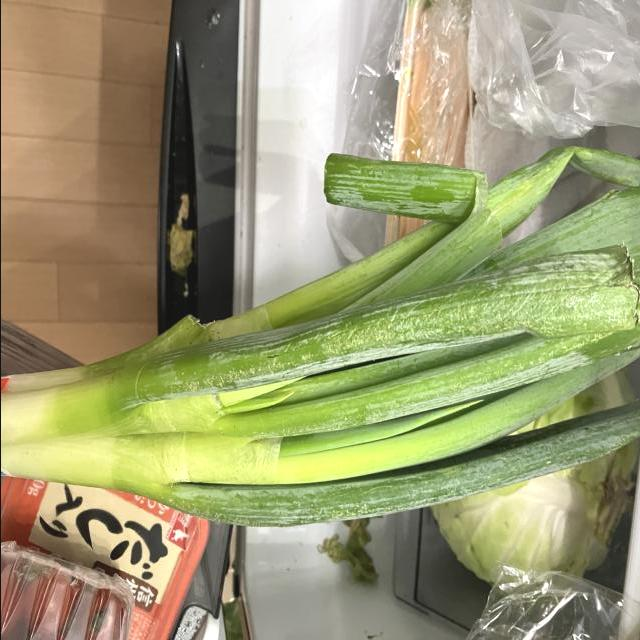cabbage: (429, 360, 637, 591)
onion: (1, 143, 640, 531)
